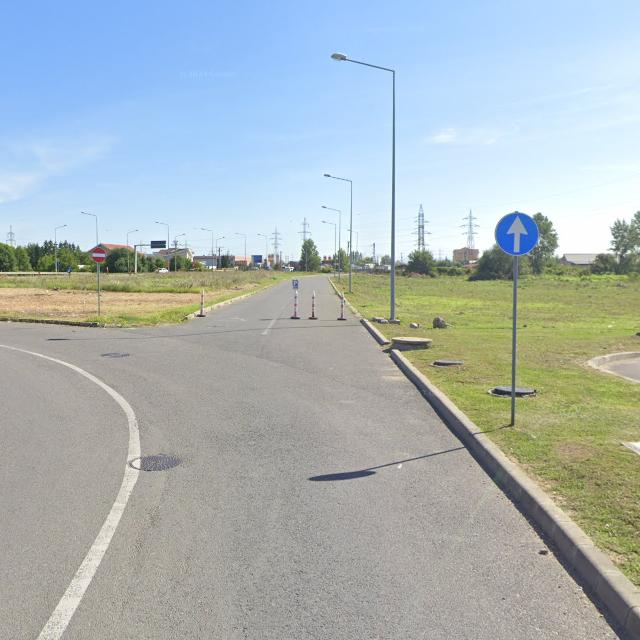forb_ahead: (90, 246, 108, 264)
mand_straight: (494, 212, 540, 256)
